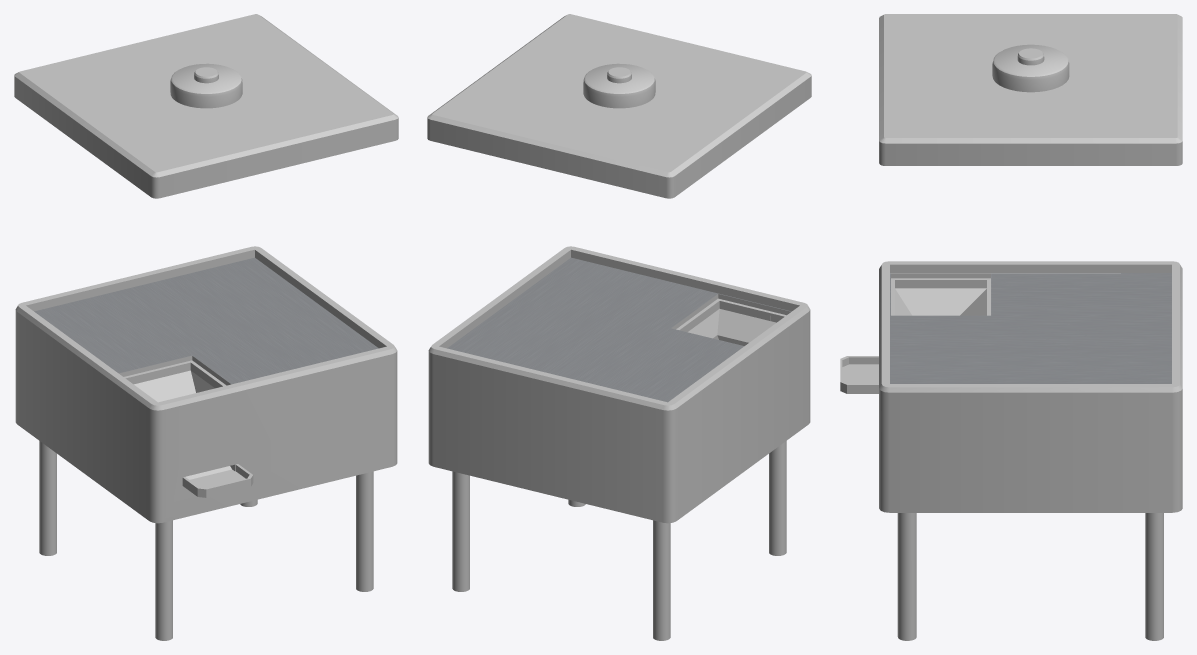
Rendered from ufo_base.fbx.
3 views of the same model, side by side, from view 1: azimuth 30°, elevation 25°; view 2: azimuth 150°, elevation 25°; view 3: azimuth 270°, elevation 25° (orthographic). The views are drawn at different scales.
Visible parts, largest first — view 1: base.018; view 2: base.018; view 3: base.018.
Boxes of the visible parts, <box> form: base.018: <box>14,14,398,640</box>; base.018: <box>427,14,811,640</box>; base.018: <box>840,14,1182,640</box>.
Bounding box in the file's own units: 590 × 1139 × 666.
